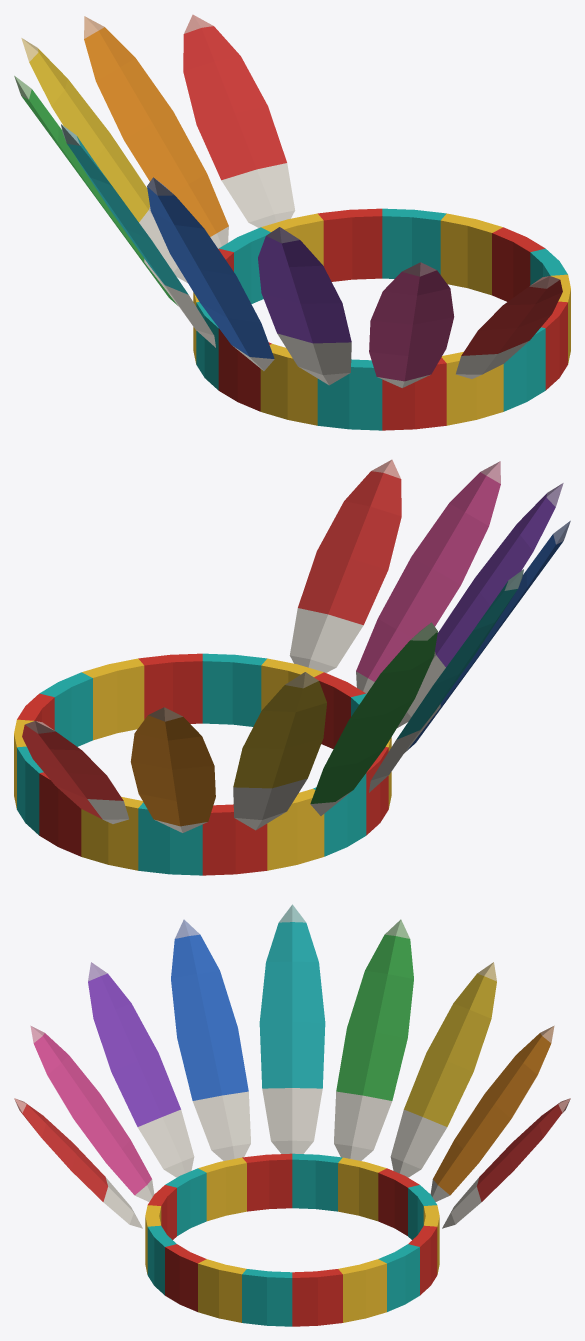
Rendered from acc_headdress.glb.
3 views of the same model, one above another, from view 1: azimuth 30°, elevation 25°; view 2: azimuth 150°, elevation 25°; view 3: azimuth 270°, elevation 25° (orthographic). The views are drawn at different scales.
Parts seen in each view (by area): view 1: Headdress; view 2: Headdress; view 3: Headdress.
Boxes of the visible parts, bbox=[...] form: Headdress: bbox=[14, 14, 570, 430]; Headdress: bbox=[14, 459, 570, 875]; Headdress: bbox=[14, 904, 570, 1326].
Size of the model in its own units: 0.691 by 0.4159 by 0.8818.
